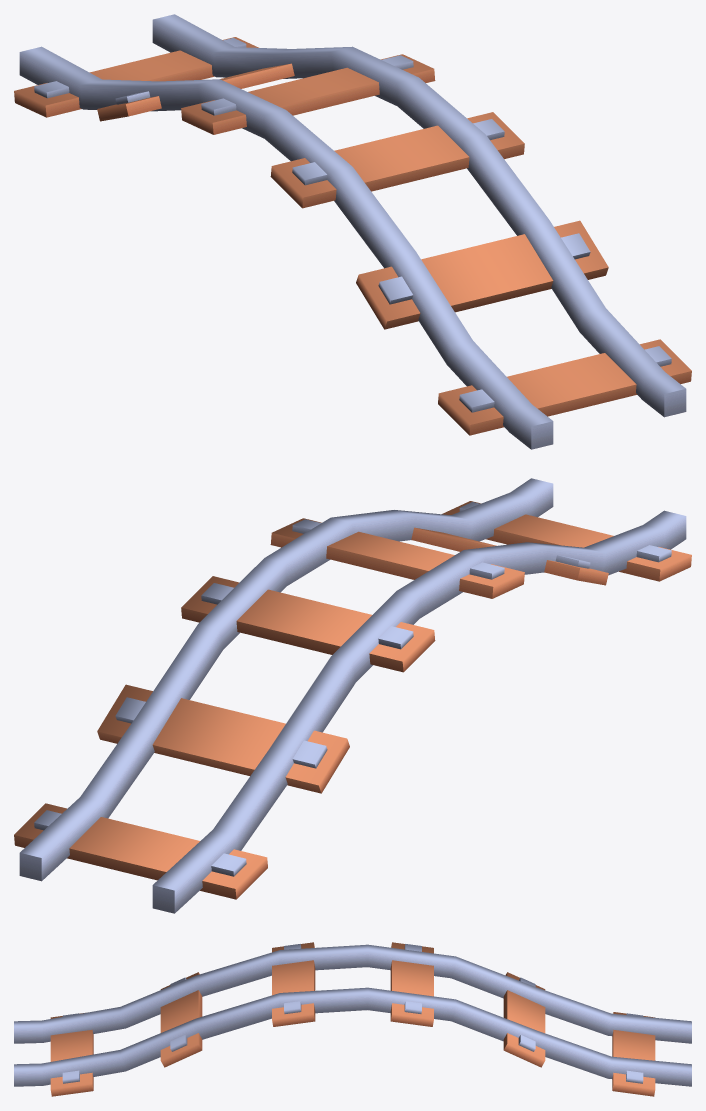
Rendered from kenney-train-railroad-straight-bump-up.glb.
3 renders of one model, top to bottom at view 1: azimuth 30°, elevation 25°; view 2: azimuth 150°, elevation 25°; view 3: azimuth 270°, elevation 25°, orthographic. The views are drawn at different scales.
Visible parts, largest first — view 1: railroad-straight-bump-up; view 2: railroad-straight-bump-up; view 3: railroad-straight-bump-up.
Boxes of the visible parts, <box> form: railroad-straight-bump-up: <box>14,14,691,449</box>; railroad-straight-bump-up: <box>14,478,691,913</box>; railroad-straight-bump-up: <box>14,942,691,1096</box>.
Size of the model in its own units: 1 by 0.5986 by 4.
1 material, 1 textured.
